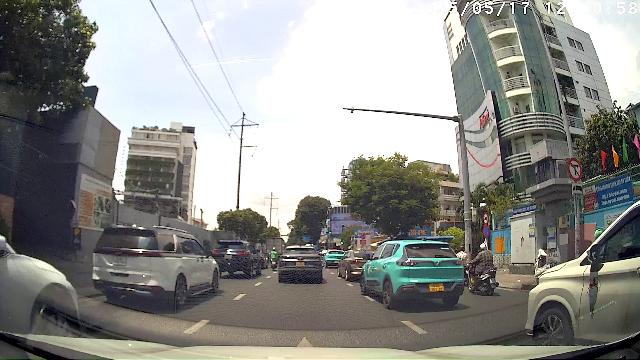137-cam-re-trai-va-re-phai: (567, 157, 582, 182)
